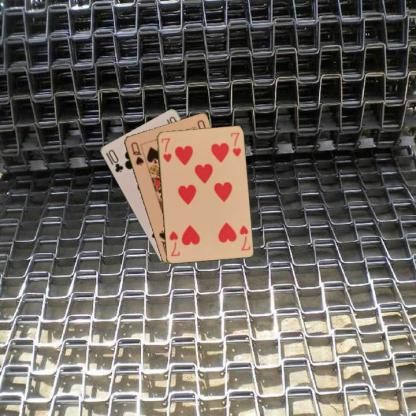10c: (106, 147, 124, 173)
7h: (158, 135, 172, 164), (237, 223, 251, 252)
Qs: (128, 140, 145, 166)
